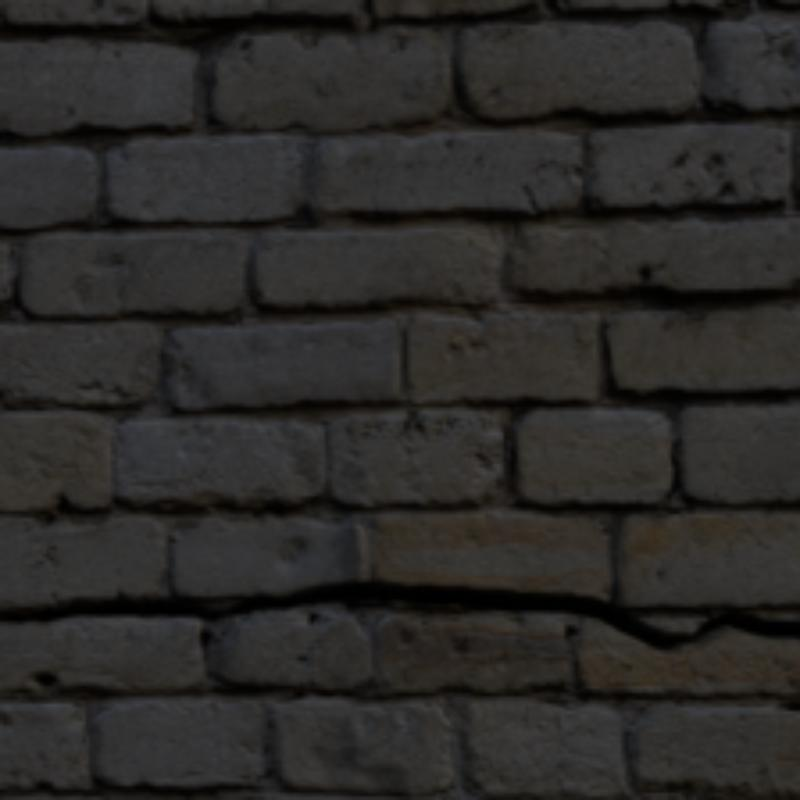pothole: (0, 579, 796, 646)
